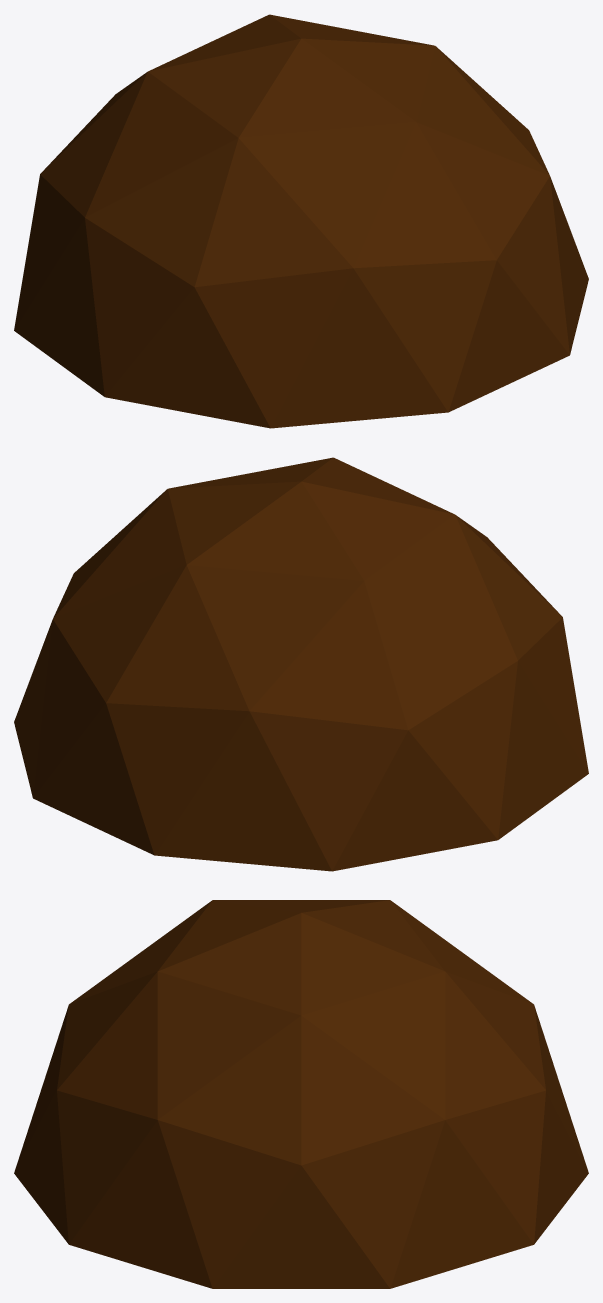
The model's file is halfe cocosnoot.fbx.
3 views of the same model, one above another, from view 1: azimuth 30°, elevation 25°; view 2: azimuth 150°, elevation 25°; view 3: azimuth 270°, elevation 25° (orthographic). The views are drawn at different scales.
Parts seen in each view (by area): view 1: halfe cocosnoot; view 2: halfe cocosnoot; view 3: halfe cocosnoot.
Boxes of the visible parts, x1,y1,x2,y2 form: halfe cocosnoot: (14, 14, 588, 428); halfe cocosnoot: (14, 457, 588, 871); halfe cocosnoot: (14, 900, 588, 1288).
Bounding box in the file's own units: 0.4249 × 0.2333 × 0.4468.
